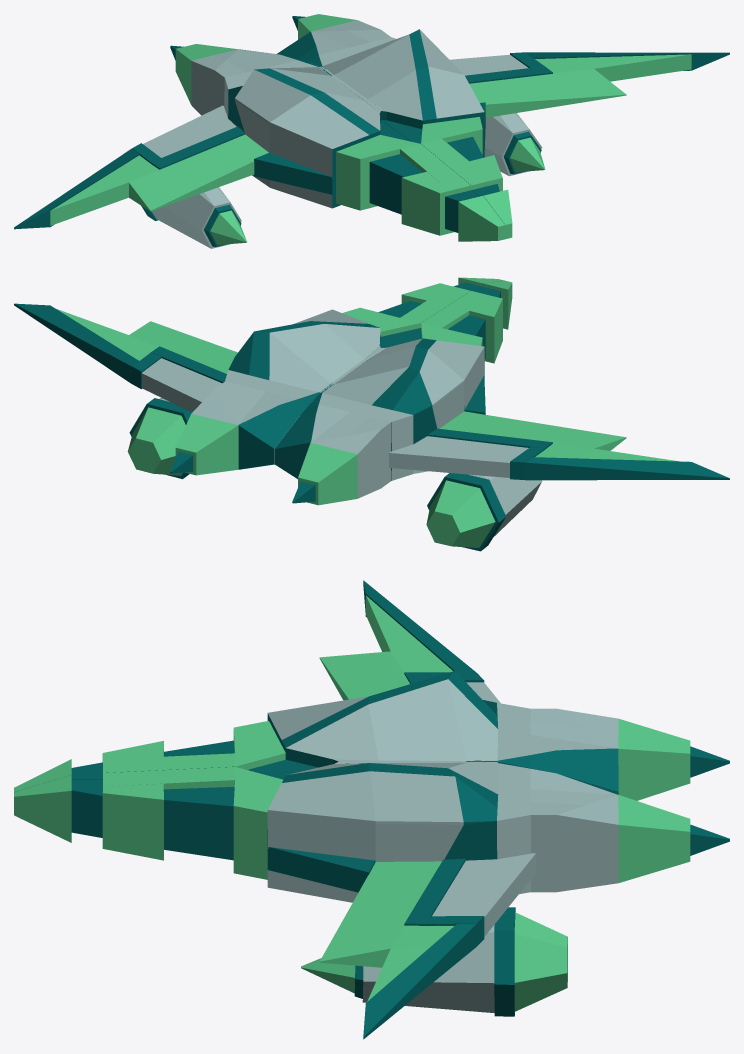
The model's file is JupiterModelo2.fbx.
3 views of the same model, one above another, from view 1: azimuth 30°, elevation 25°; view 2: azimuth 150°, elevation 25°; view 3: azimuth 270°, elevation 25° (orthographic). The views are drawn at different scales.
Visible parts, largest first — view 1: Modelo_Jupiter; view 2: Modelo_Jupiter; view 3: Modelo_Jupiter.
Boxes of the visible parts, <box> form: Modelo_Jupiter: <box>14,14,729,248</box>; Modelo_Jupiter: <box>14,277,729,551</box>; Modelo_Jupiter: <box>14,580,729,1039</box>.
Bounding box in the file's own units: 710 × 135 × 469.
